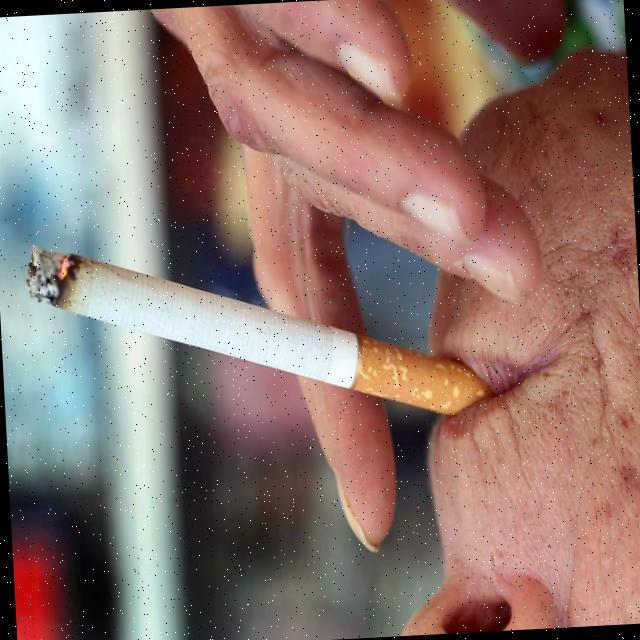cigarette: (21, 224, 404, 424)
